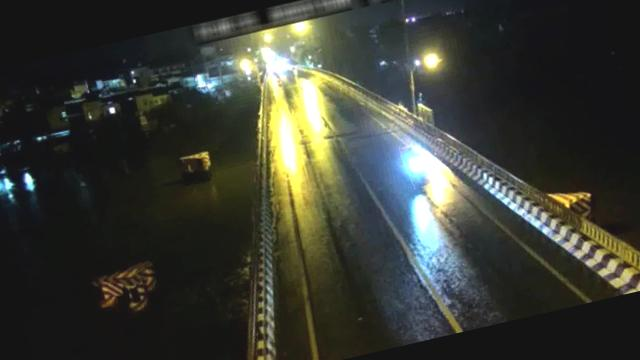Bike: (400, 142, 430, 190)
